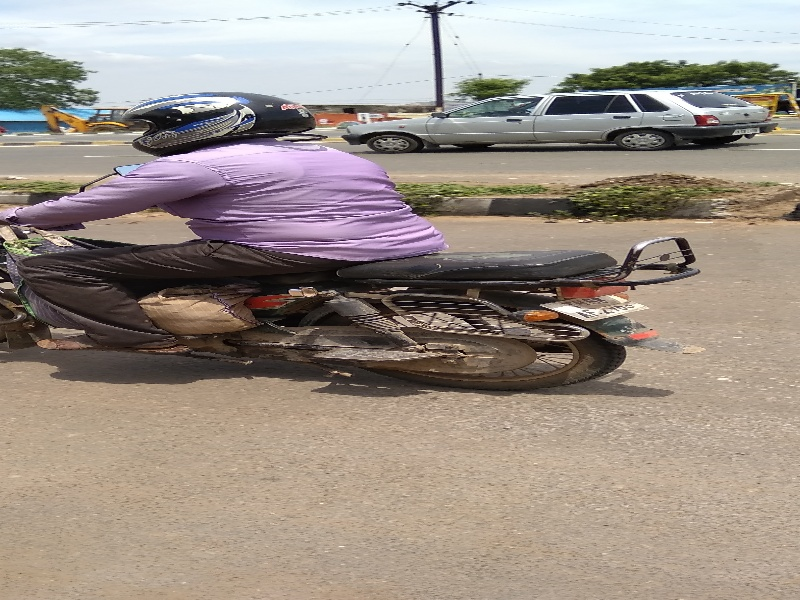biker: (1, 45, 723, 425)
helmet: (109, 76, 327, 176)
